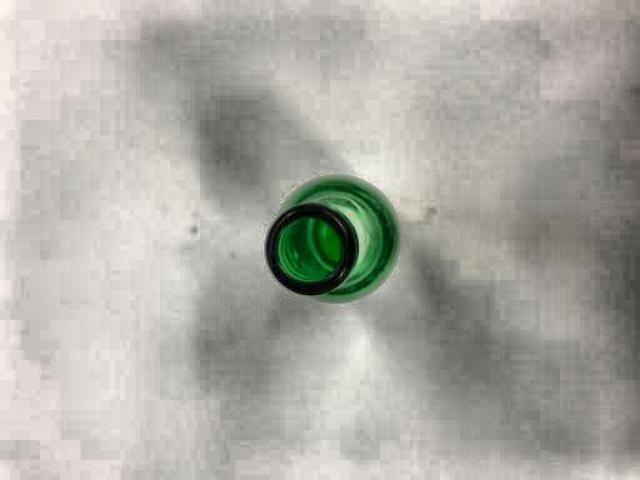Bottles: (257, 148, 410, 319)
